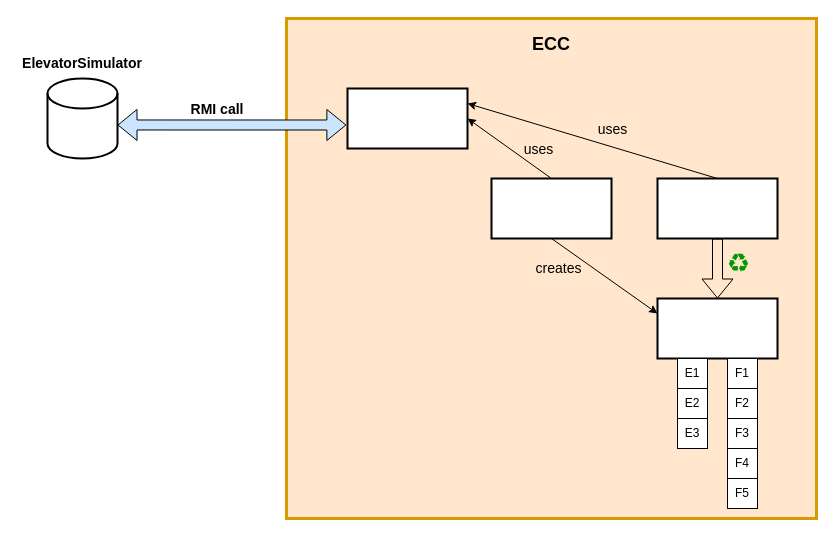
Image size: 835x537. Some labels were removed from this diagram. The shapes that lost their labels are listed below. From the top down, each one's box as (x1, y1, x2, y2) in pixels, then its label:
(346, 87, 468, 149): RmiWrapper
(490, 177, 612, 239): ECCFactory
(656, 177, 778, 239): ECCUpdater
(656, 297, 778, 359): ECCDataModel
